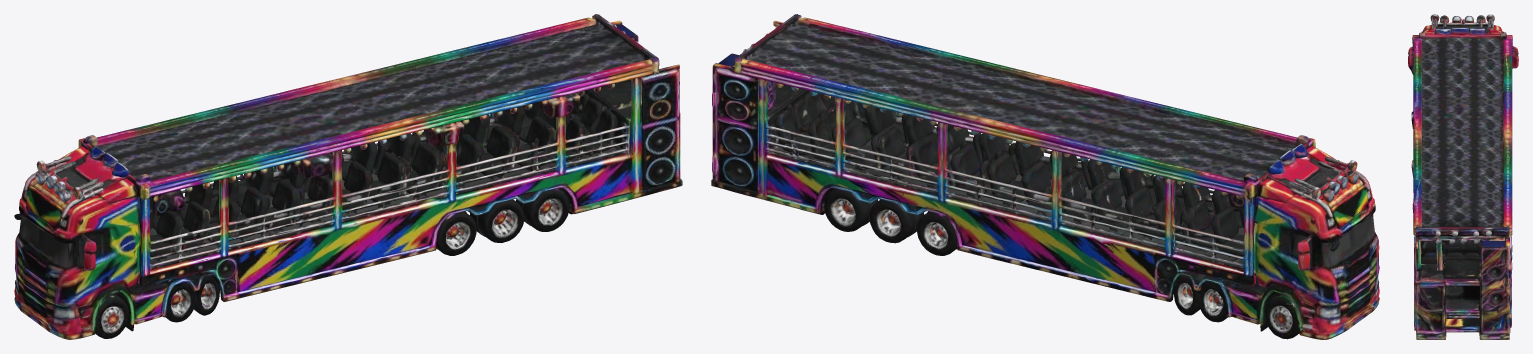
The model's file is carreta.glb.
3 views of the same model, side by side, from view 1: azimuth 30°, elevation 25°; view 2: azimuth 150°, elevation 25°; view 3: azimuth 270°, elevation 25° (orthographic). The views are drawn at different scales.
Parts seen in each view (by area): view 1: Mesh_0; view 2: Mesh_0; view 3: Mesh_0.
Boxes of the visible parts, <box> form: Mesh_0: <box>14,14,682,339</box>; Mesh_0: <box>711,14,1379,339</box>; Mesh_0: <box>1408,14,1518,339</box>.
Size of the model in its own units: 1.9 by 0.463 by 0.3844.
1 material, 1 textured.
